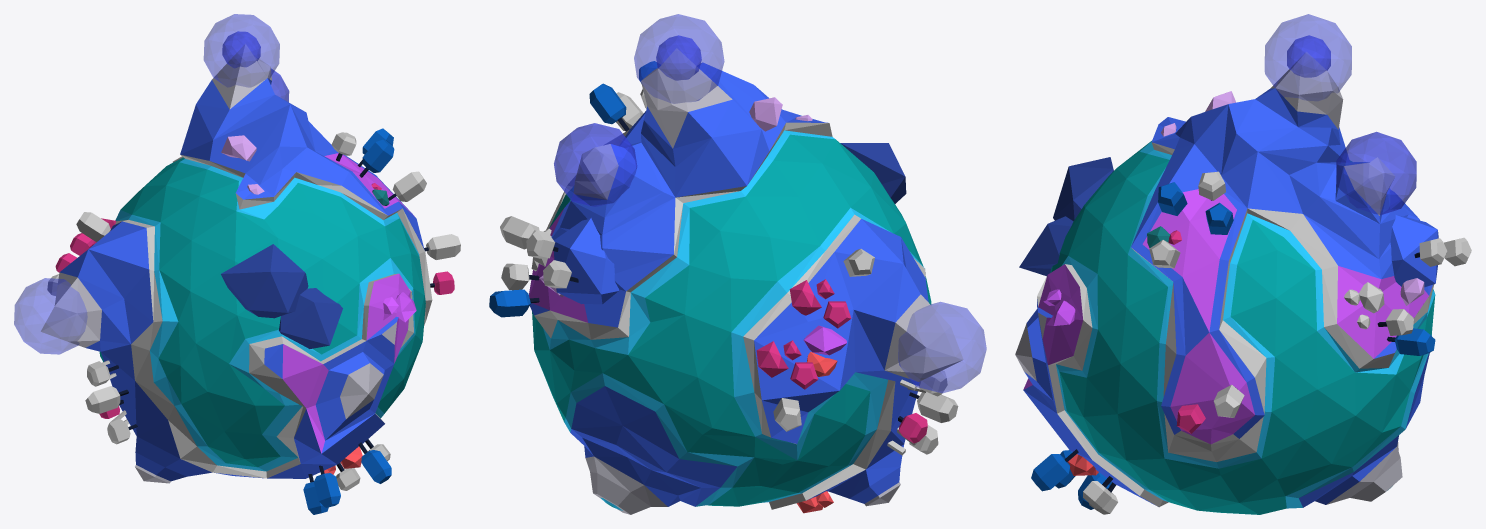
The model's file is watchC_planet07.dae.
The picture shows the model from 3 angles, left to right: view 1: azimuth 30°, elevation 25°; view 2: azimuth 150°, elevation 25°; view 3: azimuth 270°, elevation 25°; orthographic projection. The views are drawn at different scales.
Visible parts, largest first — view 1: mundo1-001; view 2: mundo1-001; view 3: mundo1-001.
Part boxes in pixels (left/top/right/bottom): mundo1-001: left=14, top=14, right=460, bottom=514; mundo1-001: left=489, top=14, right=986, bottom=514; mundo1-001: left=1015, top=14, right=1471, bottom=514.
Bounding box in the file's own units: 2.9 × 2.8 × 2.33.
